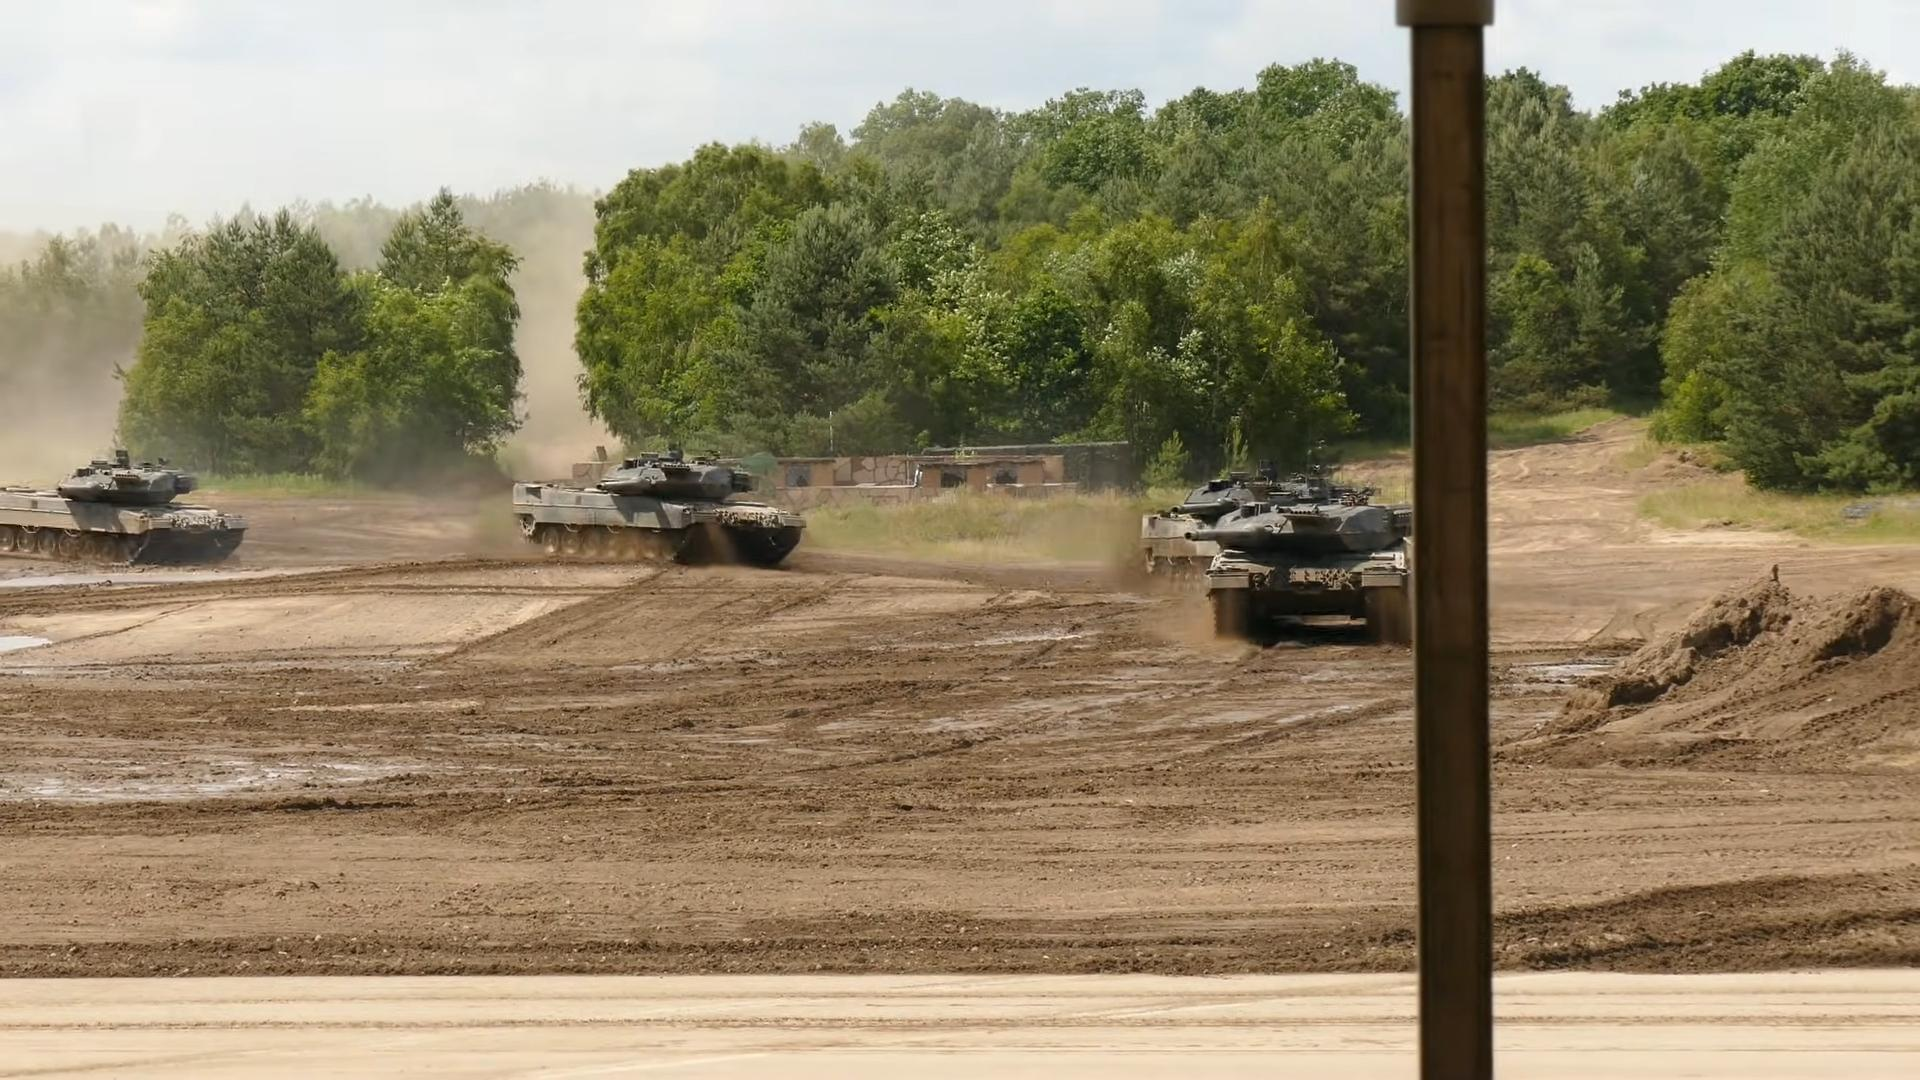tank: (513, 443, 807, 566), (1185, 489, 1415, 642), (1139, 459, 1364, 593), (1, 448, 251, 564)
